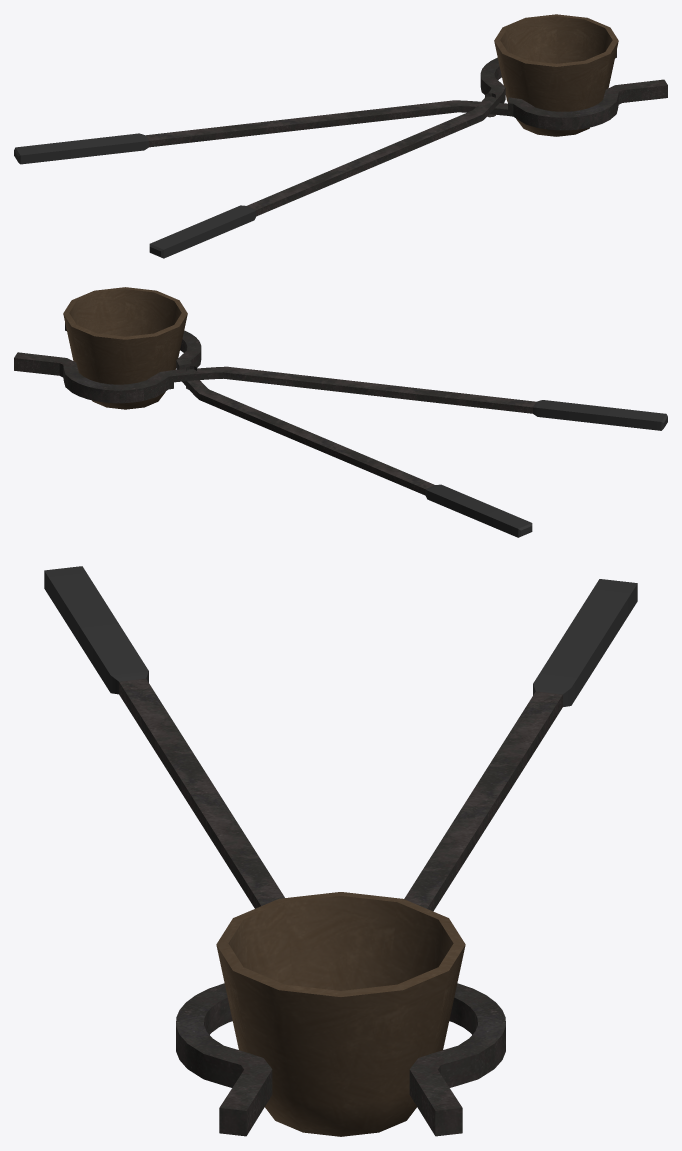
The model's file is Tongs_BlacksmithCrucibleEmpty.glb.
The picture shows the model from 3 angles, top to bottom: view 1: azimuth 30°, elevation 25°; view 2: azimuth 150°, elevation 25°; view 3: azimuth 270°, elevation 25°; orthographic projection. The views are drawn at different scales.
Parts seen in each view (by area): view 1: Tongs_BlackmithCrucibleEmpty; view 2: Tongs_BlackmithCrucibleEmpty; view 3: Tongs_BlackmithCrucibleEmpty.
Boxes of the visible parts, x1=… form: Tongs_BlackmithCrucibleEmpty: x1=14, y1=14, x2=667, y2=258; Tongs_BlackmithCrucibleEmpty: x1=14, y1=287, x2=667, y2=537; Tongs_BlackmithCrucibleEmpty: x1=44, y1=566, x2=637, y2=1136.
Bounding box in the file's own units: 5.03 × 0.6961 × 2.32.
1 material, 1 textured.
